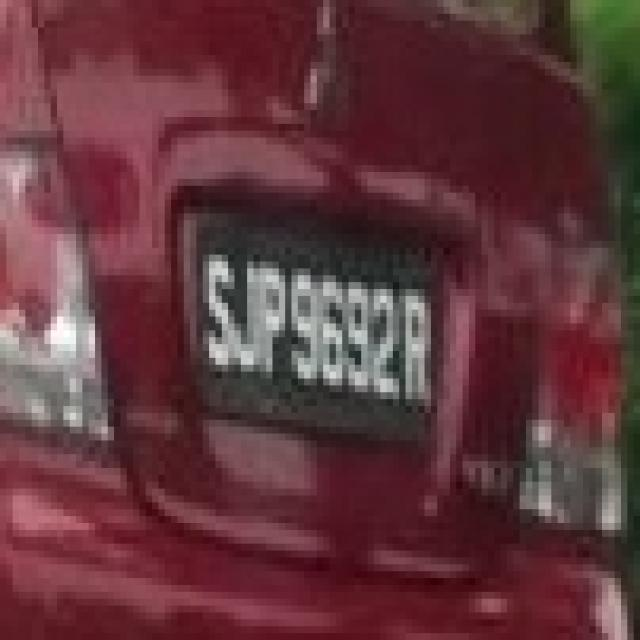2: (374, 287, 402, 404)
6: (320, 271, 344, 392)
9: (292, 270, 320, 390), (344, 276, 372, 394)
A: (403, 288, 429, 406)
J: (235, 255, 261, 371)
P: (264, 260, 285, 381)
S: (200, 253, 234, 370)
